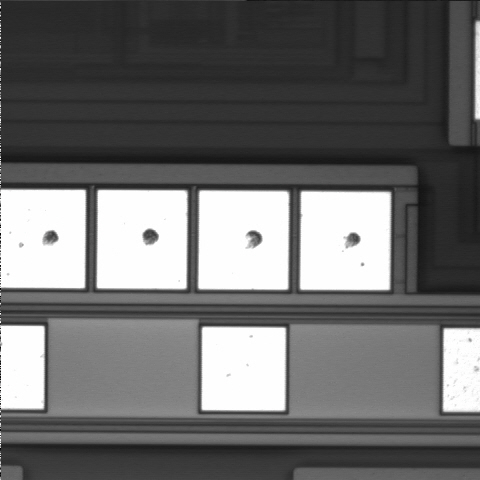pad: (198, 191, 289, 290), (300, 192, 391, 290), (97, 190, 187, 289), (202, 327, 286, 411)
